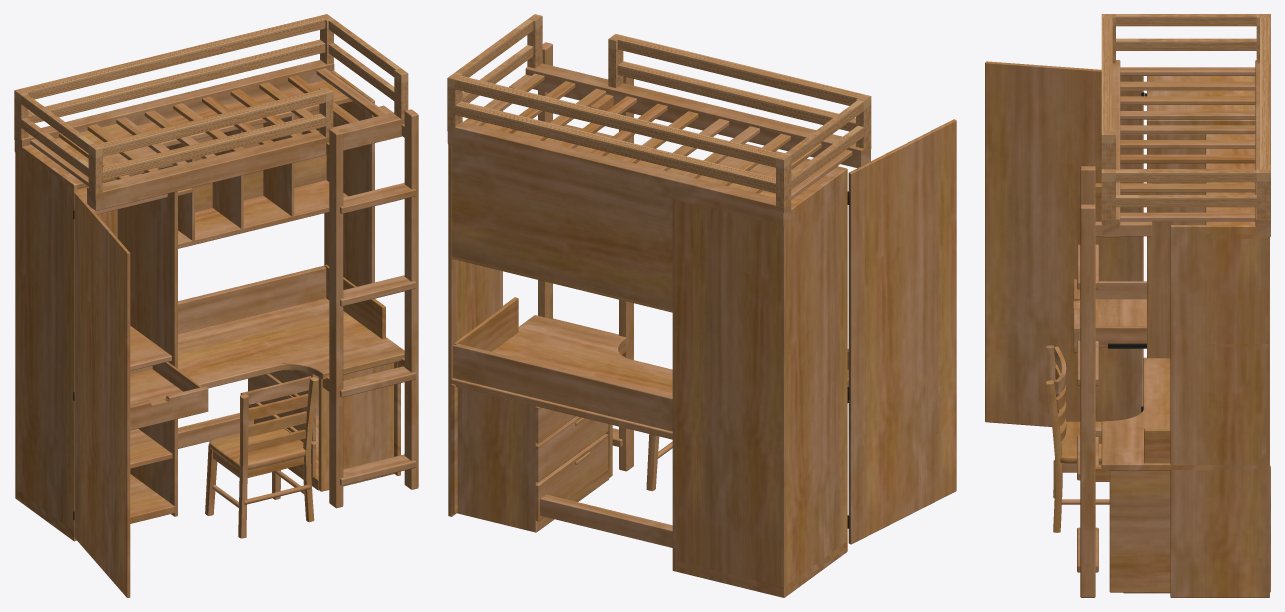
Rendered from desk-real.glb.
3 views of the same model, side by side, from view 1: azimuth 30°, elevation 25°; view 2: azimuth 150°, elevation 25°; view 3: azimuth 270°, elevation 25° (orthographic). The views are drawn at different scales.
Visible parts, largest first — view 1: Upper bed edge-aligned guard rails with entry post, Cupboard outer side__asset, Open cupboard door__asset, Desk top with rounded return__asset, Cupboard and desk partition__asset, Loft front beam__asset, Left ladder rail__asset, Right desk pedestal front__asset, Right ladder rail__asset, Desk back upstand__asset, Right side panel__asset, Loft back beam__asset (+33 smaller); view 2: Cupboard back__asset, Open cupboard door__asset, Upper bed edge-aligned guard rails with entry post, Upper shelf back__asset, Cupboard outer side__asset, Right pedestal back__asset, Loft back beam__asset, Desk top with rounded return__asset, Desk back upstand__asset, Loft front beam__asset, Right side panel__asset, Desk rear support rail__asset (+11 smaller); view 3: Open cupboard door__asset, Right side panel__asset, Upper bed edge-aligned guard rails with entry post, Right desk pedestal outer side__asset, Right ladder rail__asset, Cupboard and desk partition__asset, Desk top with rounded return__asset, Cupboard roof__asset, Upper bookcase crown__asset, Drawer bottom__asset, Loft bed slat 2__asset, Loft bed slat 5__asset (+19 smaller).
Part boxes in pixels (x1,y1,x2,y2): Upper bed edge-aligned guard rails with entry post: (14, 14, 408, 199); Cupboard outer side__asset: (16, 146, 77, 541); Open cupboard door__asset: (74, 192, 130, 597); Desk top with rounded return__asset: (178, 298, 404, 388); Cupboard and desk partition__asset: (117, 165, 177, 516); Loft front beam__asset: (87, 112, 404, 210); Left ladder rail__asset: (329, 127, 343, 508); Right desk pedestal front__asset: (318, 362, 393, 491); Right ladder rail__asset: (404, 109, 418, 489); Desk back upstand__asset: (178, 265, 326, 334); Right side panel__asset: (324, 71, 374, 286); Loft back beam__asset: (14, 60, 334, 155); Cupboard back__asset: (674, 199, 785, 597); Open cupboard door__asset: (848, 119, 956, 544); Upper bed edge-aligned guard rails with entry post: (447, 14, 871, 213); Upper shelf back__asset: (452, 145, 672, 309); Cupboard outer side__asset: (781, 168, 847, 597); Right pedestal back__asset: (456, 387, 537, 532); Loft back beam__asset: (447, 121, 791, 225); Desk top with rounded return__asset: (451, 315, 673, 439); Desk back upstand__asset: (453, 343, 672, 431); Loft front beam__asset: (525, 63, 870, 168); Right side panel__asset: (448, 99, 502, 516); Desk rear support rail__asset: (540, 494, 672, 547); Open cupboard door__asset: (985, 61, 1143, 426); Right side panel__asset: (1170, 225, 1269, 597); Upper bed edge-aligned guard rails with entry post: (1101, 14, 1270, 224); Right desk pedestal outer side__asset: (1109, 466, 1270, 592); Right ladder rail__asset: (1080, 204, 1095, 597); Cupboard and desk partition__asset: (1147, 119, 1255, 358); Desk top with rounded return__asset: (1101, 357, 1268, 470); Cupboard roof__asset: (1147, 76, 1255, 110); Upper bookcase crown__asset: (1205, 134, 1268, 238); Drawer bottom__asset: (1080, 299, 1146, 346); Loft bed slat 2__asset: (1120, 81, 1255, 90); Loft bed slat 5__asset: (1120, 125, 1255, 134).
Size of the model in its own units: 2.16 by 2.49 by 1.52.
Materials: 2 (1 with a texture image).
